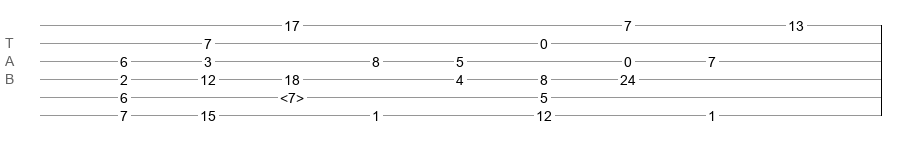0: (540, 36, 548, 46), (624, 54, 632, 64)
1: (372, 108, 380, 118), (708, 108, 716, 118)
12: (200, 72, 216, 82), (536, 108, 552, 118)
13: (788, 18, 804, 28)
15: (200, 108, 216, 118)
17: (284, 18, 300, 28)
18: (284, 72, 300, 82)
2: (120, 72, 128, 82)
24: (620, 72, 636, 82)
3: (204, 54, 212, 64)
4: (456, 72, 464, 82)
5: (456, 54, 464, 64), (540, 90, 548, 100)
6: (120, 90, 128, 100), (120, 54, 128, 64)
7: (120, 108, 128, 118), (204, 36, 212, 46), (624, 18, 632, 28), (708, 54, 716, 64)
8: (372, 54, 380, 64), (540, 72, 548, 82)
harmonic: (280, 90, 304, 100)
